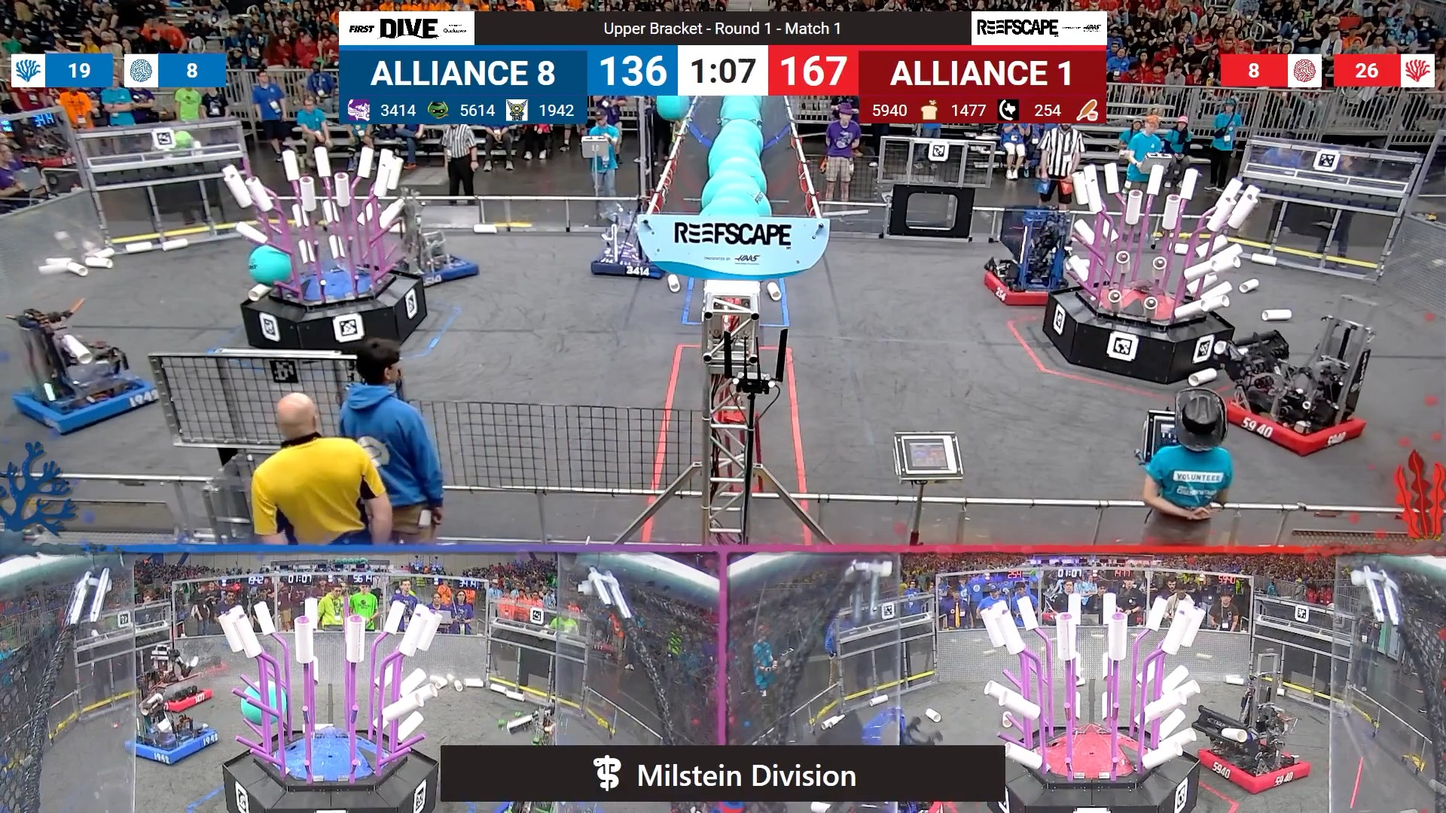bumpers: (1203, 380, 1374, 458), (9, 370, 164, 439), (1181, 736, 1318, 794), (121, 721, 227, 771), (971, 264, 1066, 307), (383, 249, 484, 288), (589, 240, 673, 282), (138, 684, 221, 717)
